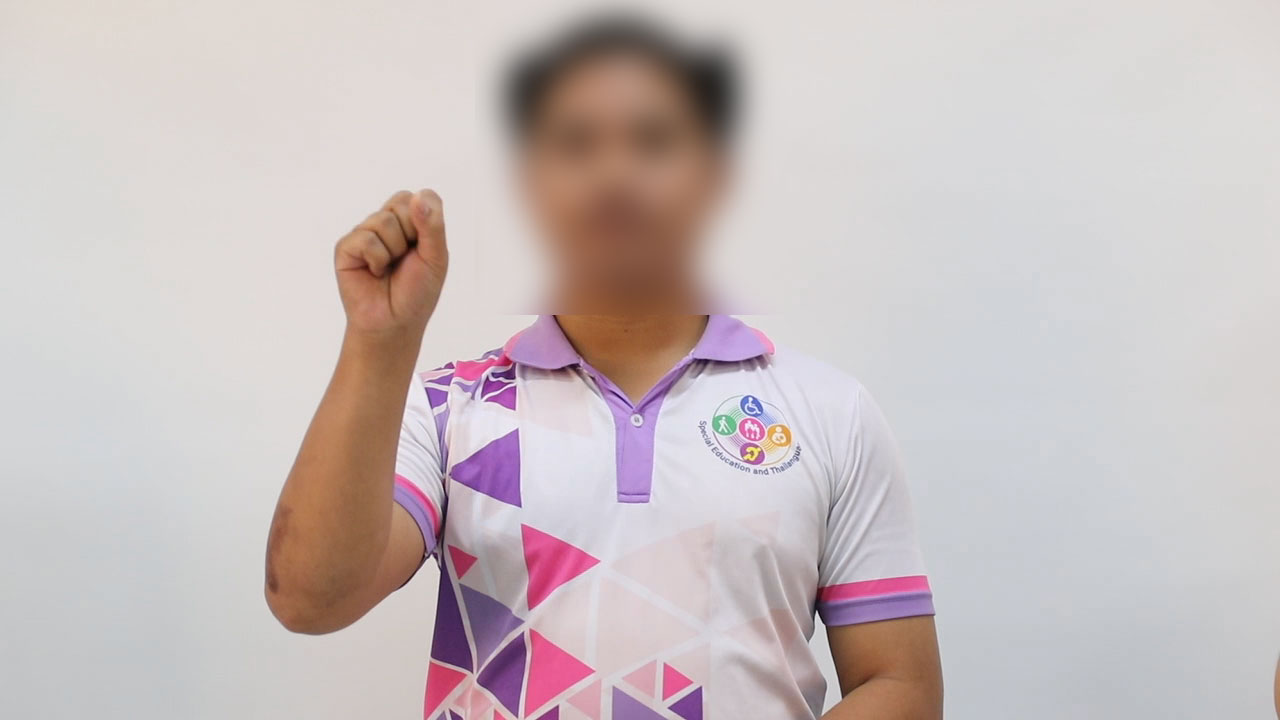sor: (309, 163, 464, 355)
